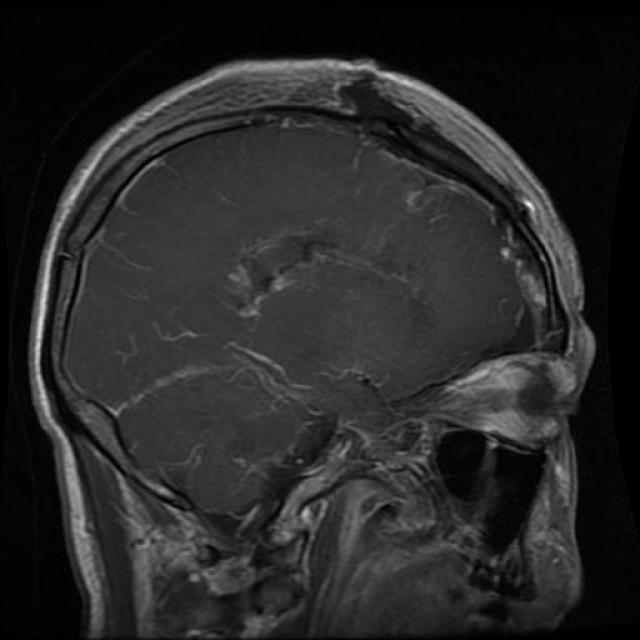glioma: (224, 220, 358, 314)
